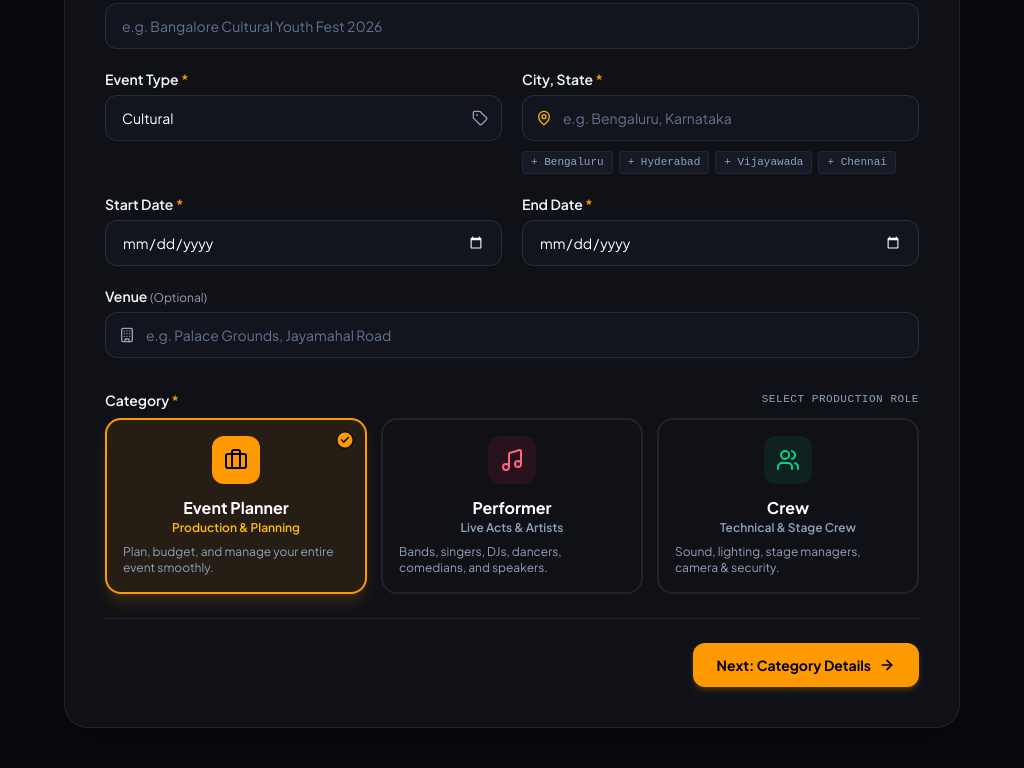
Scenario: GoPratle 4-Step Requirement Wizard Tests › should validate Step 1 fields and show error when event name is too short
(page scrolled)
// Click Next without entering required fields
Click the button "Next: Category Details": coordinates (806, 664) [693,642,919,686]
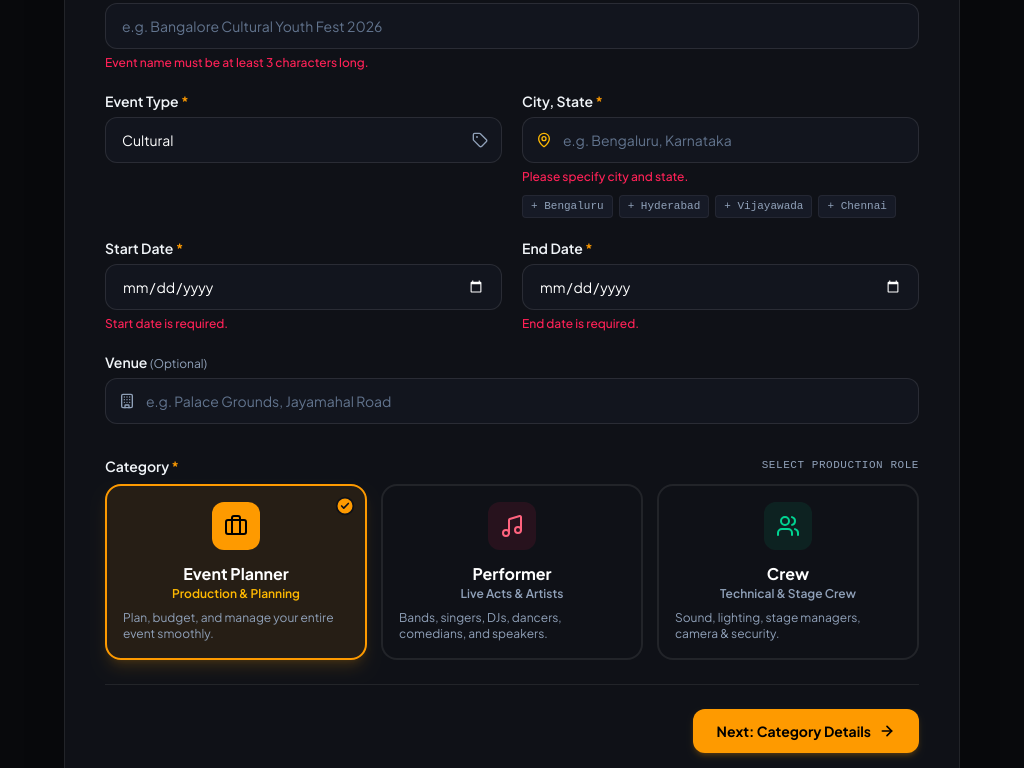
Expected: the text "Event name must be at least 3 characters long." is shown, [105,55,368,70]
Expected: the text "Start date is required." is shown, [105,316,228,330]
Expected: the text "Please specify city and state." is shown, [522,169,688,184]
